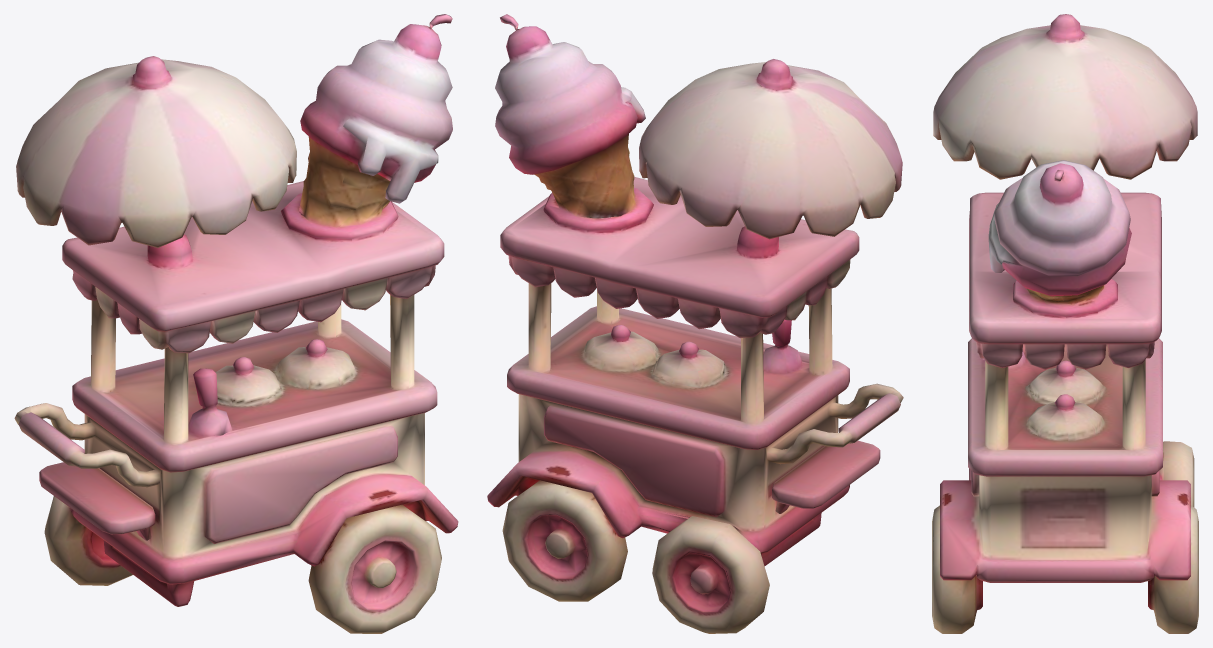
File: ice-cream-cart.glb
3 views of the same model, side by side, from view 1: azimuth 30°, elevation 25°; view 2: azimuth 150°, elevation 25°; view 3: azimuth 270°, elevation 25° (orthographic). The views are drawn at different scales.
Visible parts, largest first — view 1: tripo_node_a1fd8ce7-080d-4f02-b20c-1a4bb4ae375b; view 2: tripo_node_a1fd8ce7-080d-4f02-b20c-1a4bb4ae375b; view 3: tripo_node_a1fd8ce7-080d-4f02-b20c-1a4bb4ae375b.
Part boxes in pixels (left/top/right/bottom): tripo_node_a1fd8ce7-080d-4f02-b20c-1a4bb4ae375b: left=14, top=14, right=458, bottom=633; tripo_node_a1fd8ce7-080d-4f02-b20c-1a4bb4ae375b: left=487, top=14, right=903, bottom=633; tripo_node_a1fd8ce7-080d-4f02-b20c-1a4bb4ae375b: left=932, top=14, right=1198, bottom=633.
Bounding box in the file's own units: 0.76 × 0.9983 × 0.4513.
1 material, 1 textured.
